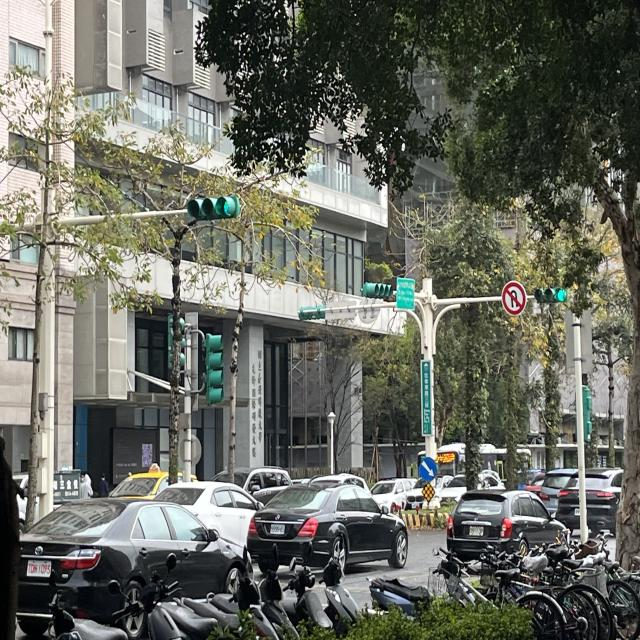green light: (188, 196, 240, 221), (534, 286, 568, 304)
